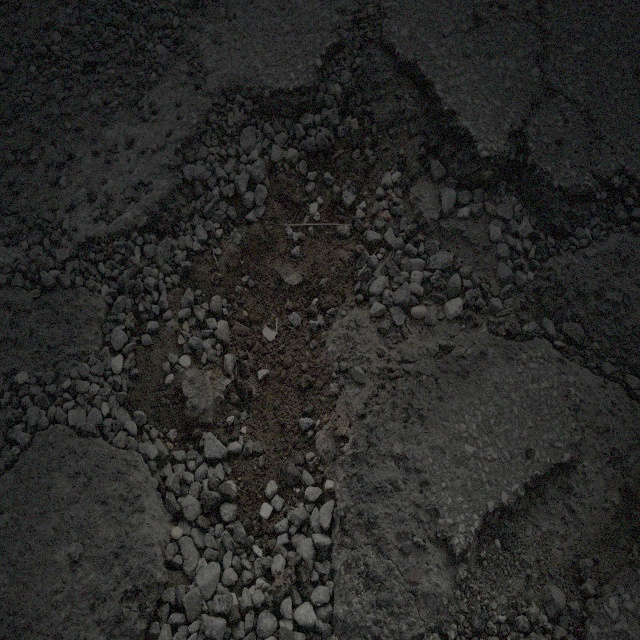pothole: (108, 31, 536, 531)
